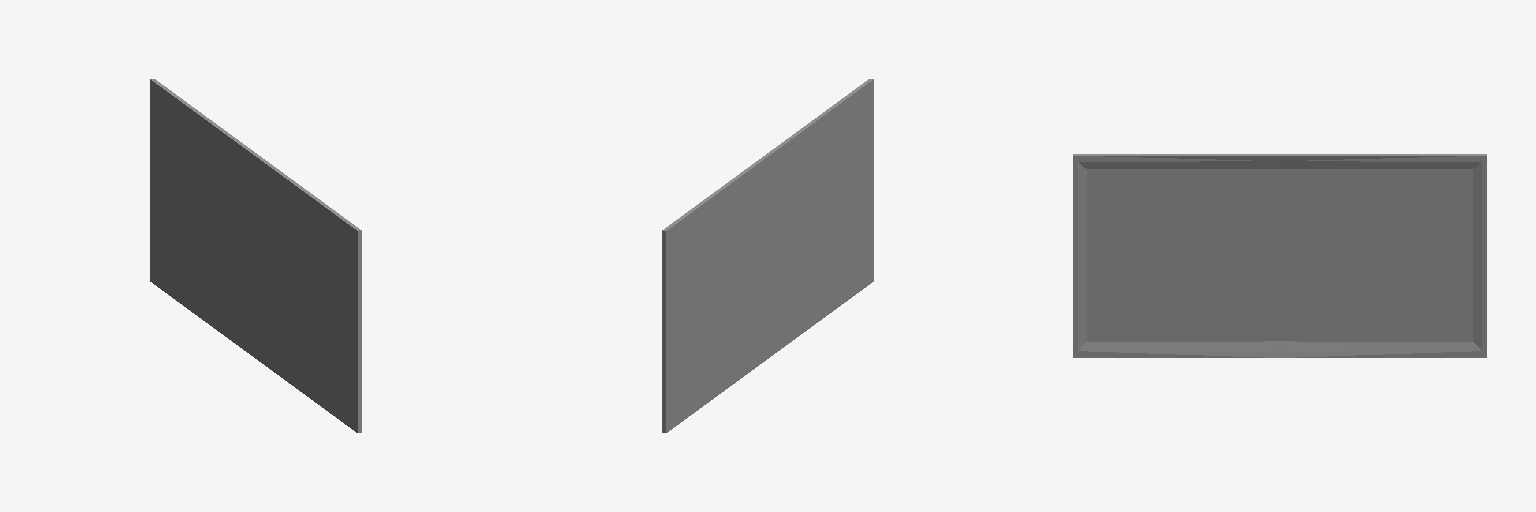
File: Quadro.obj
3 renders of one model, left to right at view 1: azimuth 30°, elevation 25°; view 2: azimuth 150°, elevation 25°; view 3: azimuth 270°, elevation 25°, orthographic.
Visible parts, largest first — view 1: Cube; view 2: Cube; view 3: Cube.
Boxes of the visible parts, box(x1,y1,x2,y2) form: Cube: box(150, 79, 361, 432); Cube: box(662, 79, 873, 432); Cube: box(1073, 154, 1486, 357).
Size of the model in its own units: 0.0974 by 5.04 by 9.36.